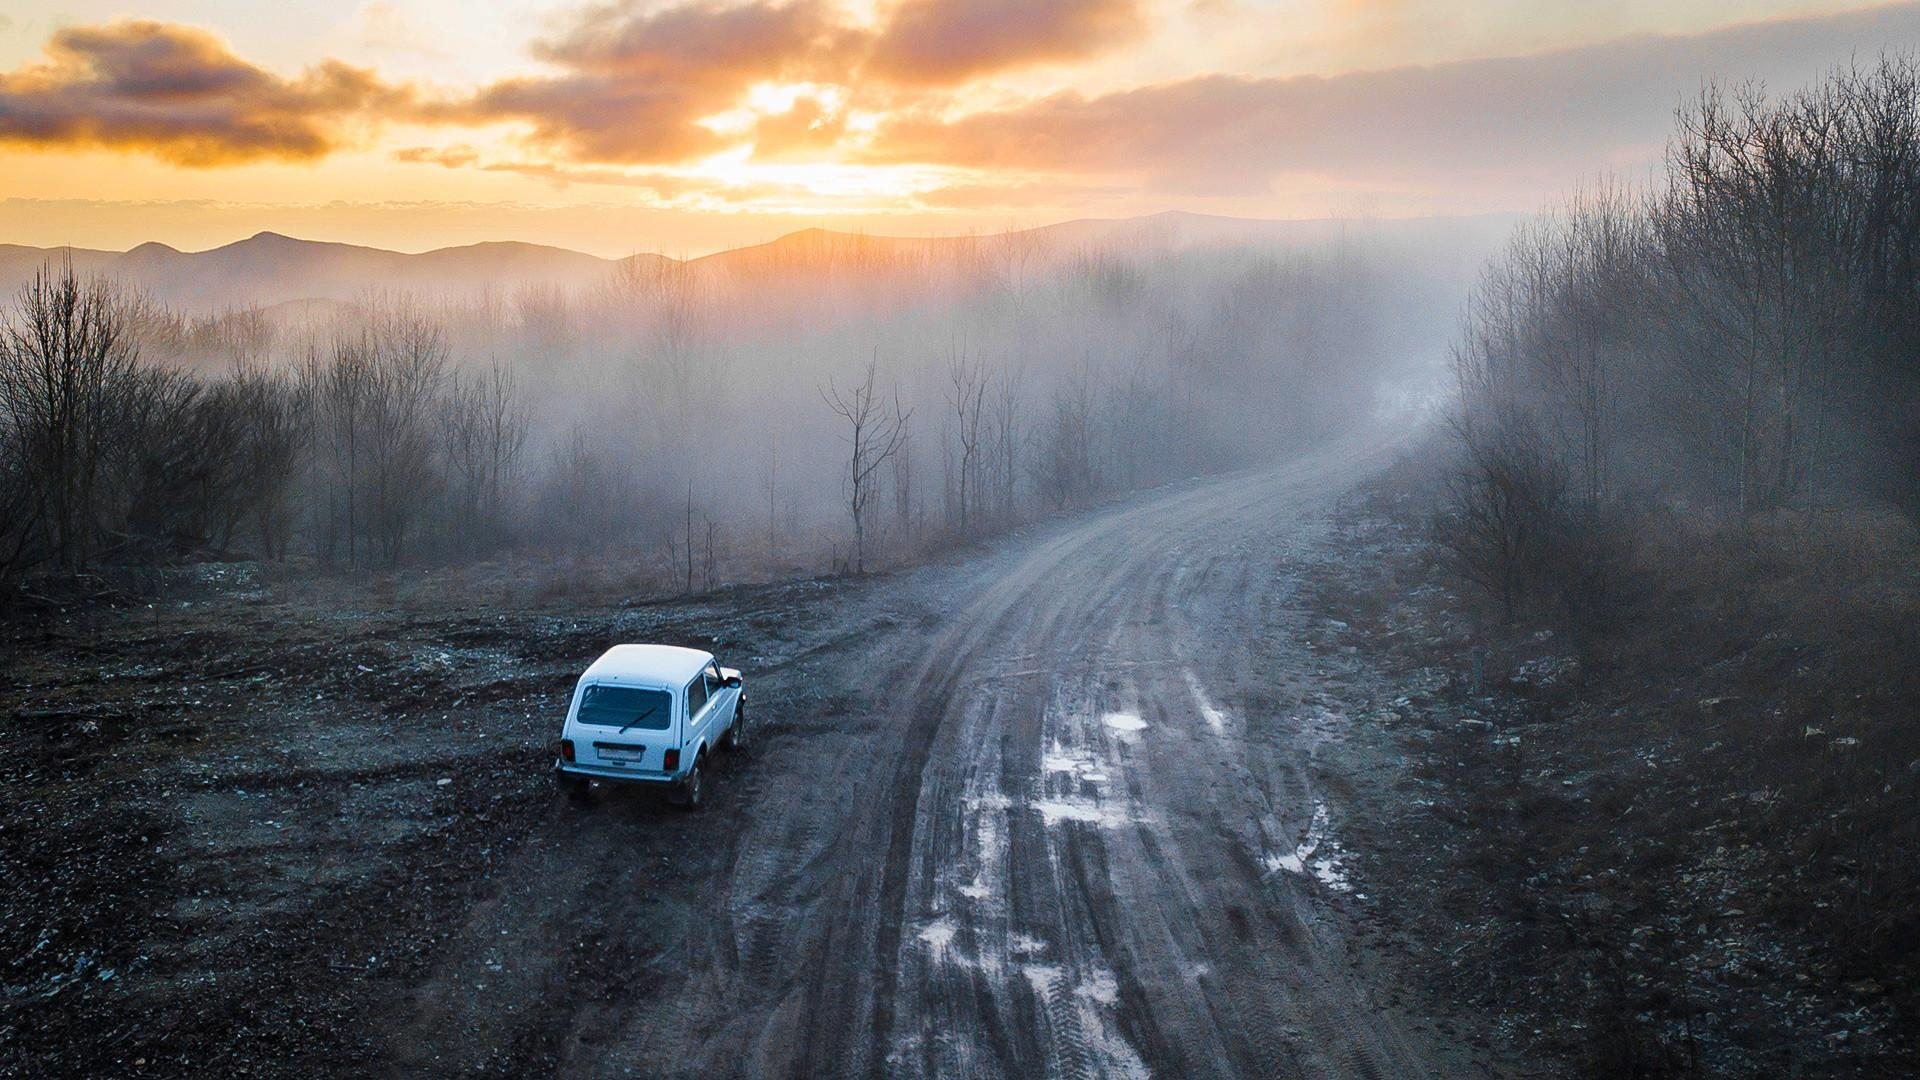car: (551, 638, 751, 810)
